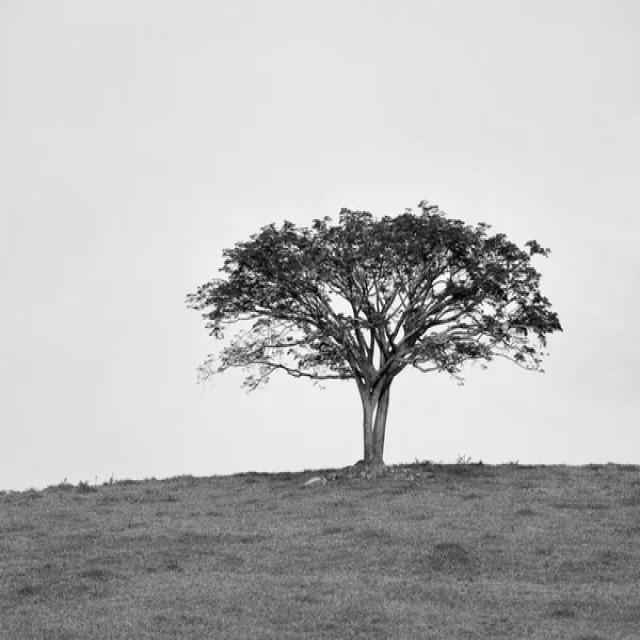Tree: (188, 202, 562, 472)
